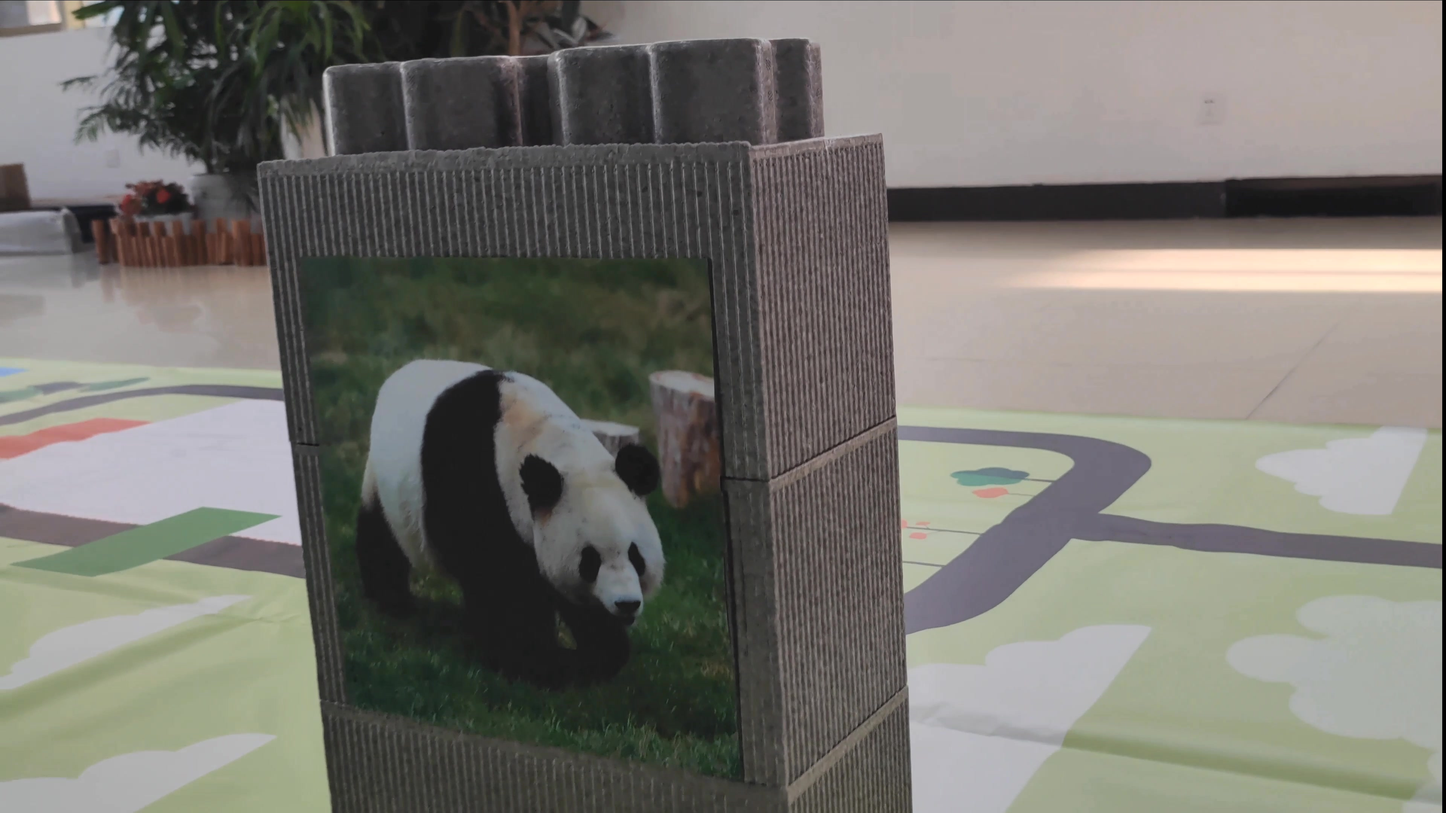panda: (322, 278, 695, 693)
